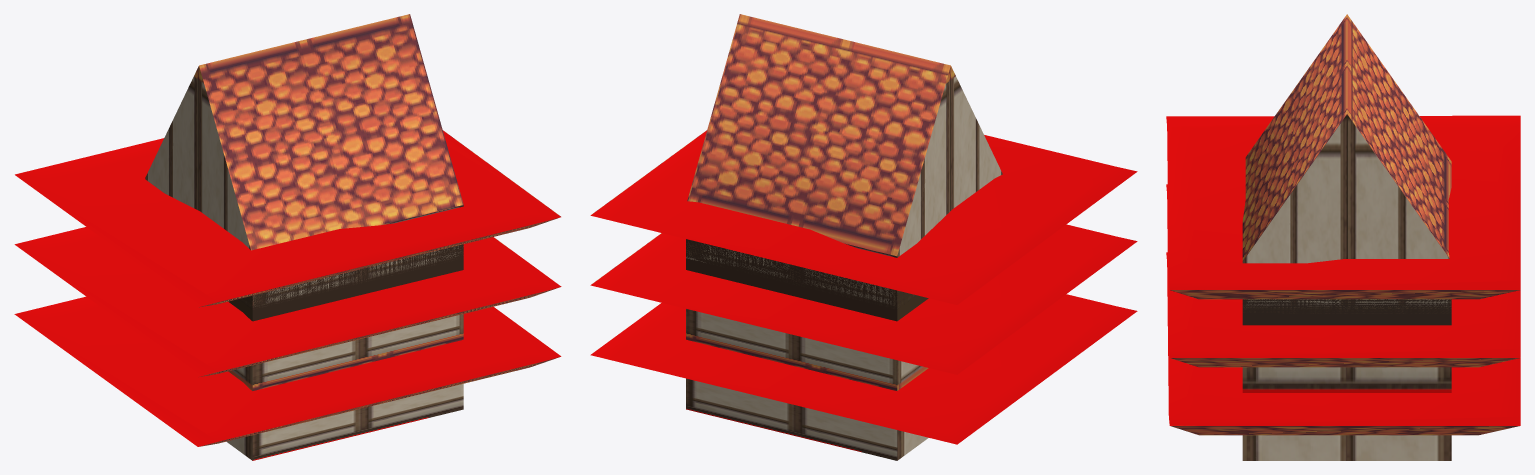
Rendered from tower.FBX.
3 views of the same model, side by side, from view 1: azimuth 30°, elevation 25°; view 2: azimuth 150°, elevation 25°; view 3: azimuth 270°, elevation 25° (orthographic). The views are drawn at different scales.
Visible parts, largest first — view 1: Box007, Box006, Box004, Box002, Box001, Box003, Box005; view 2: Box007, Box006, Box002, Box004, Box003, Box001, Box005; view 3: Box007, Box006, Box004, Box002, Box005, Box001, Box003.
Boxes of the visible parts, x1,y1,x2,y2 form: Box007: (145,14,463,309); Box006: (15,130,560,307); Box004: (14,227,561,377); Box002: (14,296,561,446); Box001: (227,384,463,460); Box003: (228,314,463,390); Box005: (228,244,463,321); Box007: (686,14,1002,308); Box006: (590,130,1137,304); Box002: (590,294,1137,444); Box004: (590,224,1137,374); Box003: (686,309,928,390); Box001: (686,378,928,460); Box005: (686,239,928,321); Box007: (1242,14,1451,313); Box006: (1166,115,1520,299); Box004: (1166,184,1520,367); Box002: (1166,252,1520,435); Box005: (1242,299,1451,325); Box001: (1242,435,1451,460); Box003: (1242,367,1451,392).
Bounding box in the file's own units: 132 × 123 × 114.
1 material, 1 textured.
